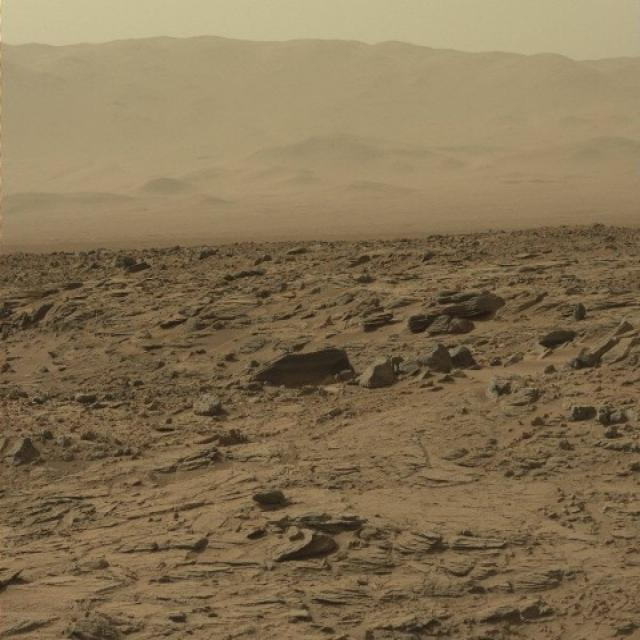rock: (406, 289, 510, 337), (246, 346, 362, 384)
